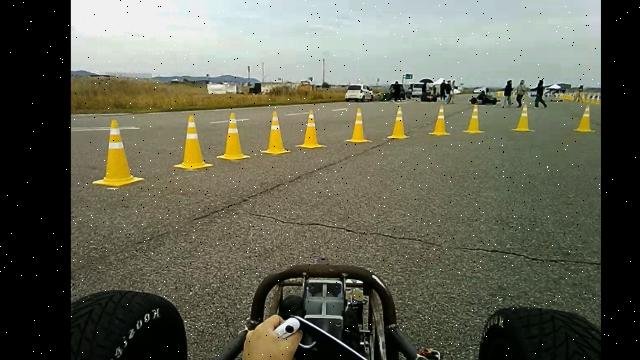yellow cone: (92, 119, 144, 188), (174, 114, 214, 170), (217, 111, 251, 161), (261, 110, 291, 155), (296, 108, 326, 150), (345, 107, 372, 143), (387, 105, 410, 140), (428, 103, 451, 136), (512, 103, 536, 132), (573, 102, 596, 132), (463, 103, 485, 134)
